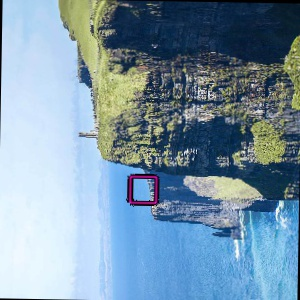square: (126, 172, 161, 208)
